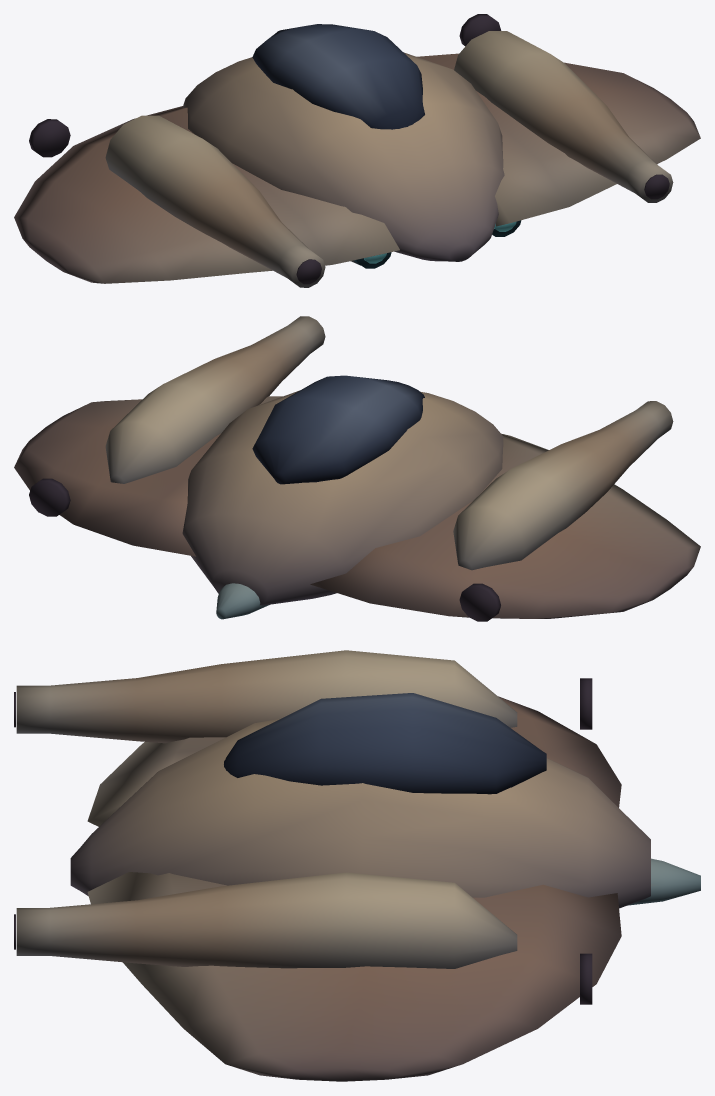
The model's file is pulse-vehicles.glb.
3 views of the same model, one above another, from view 1: azimuth 30°, elevation 25°; view 2: azimuth 150°, elevation 25°; view 3: azimuth 270°, elevation 25° (orthographic). The views are drawn at different scales.
Parts seen in each view (by area): view 1: manta_boss, interceptor; view 2: manta_boss, interceptor; view 3: manta_boss, interceptor.
Boxes of the visible parts, <box> form: manta_boss: <box>14,14,700,287</box>; interceptor: <box>351,220,521,268</box>; manta_boss: <box>14,316,700,621</box>; interceptor: <box>216,583,269,619</box>; manta_boss: <box>14,650,650,1081</box>; interceptor: <box>627,858,700,905</box>.
Bounding box in the file's own units: 2.26 × 0.54 × 1.65.
